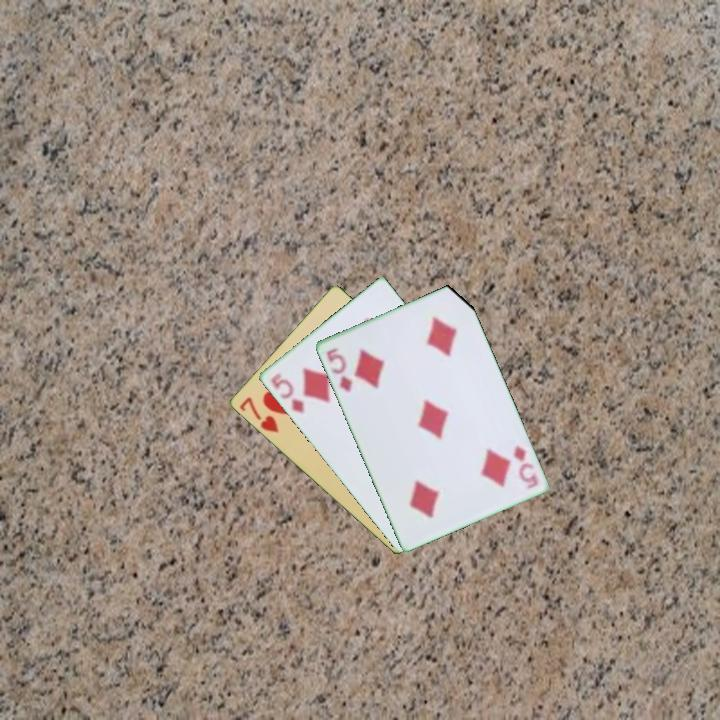5d: (267, 369, 307, 416), (323, 344, 355, 395), (510, 442, 541, 491)
7h: (235, 393, 282, 436)
